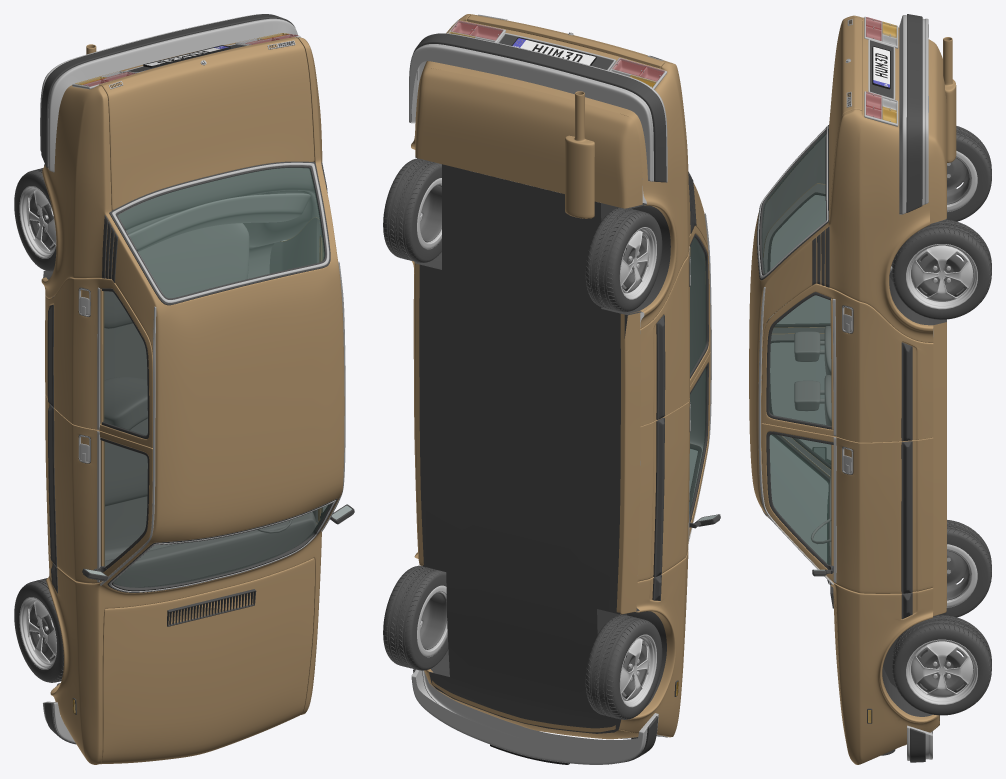
The model's file is fiat_132.glb.
The picture shows the model from 3 angles, left to right: view 1: azimuth 30°, elevation 25°; view 2: azimuth 150°, elevation 25°; view 3: azimuth 270°, elevation 25°; orthographic projection. The views are drawn at different scales.
Visible parts, largest first — view 1: Object_18, Object_2, Object_33, Object_35, Object_24, Object_41, Object_12, Object_17, Object_11, Object_16, Object_48, Object_21 (+8 smaller); view 2: Object_17, Object_18, Object_50, Object_25, Object_24, Object_48, Object_49, Object_2, Object_41, Object_33, Object_19, Object_42 (+12 smaller); view 3: Object_18, Object_2, Object_50, Object_40, Object_17, Object_49, Object_33, Object_24, Object_42, Object_16, Object_35, Object_48 (+17 smaller).
Boxes of the visible parts, x1,y1,x2,y2 form: Object_18: (41, 37, 344, 764); Object_2: (103, 167, 330, 587); Object_33: (52, 168, 321, 587); Object_35: (104, 193, 310, 506); Object_24: (40, 14, 329, 303); Object_41: (19, 186, 56, 669); Object_12: (78, 41, 330, 463); Object_17: (41, 14, 295, 744); Object_11: (100, 437, 337, 592); Object_16: (47, 305, 57, 593); Object_48: (14, 169, 63, 682); Object_21: (74, 262, 345, 712); Object_17: (411, 33, 670, 764); Object_18: (411, 14, 710, 739); Object_50: (383, 158, 662, 312); Object_25: (411, 22, 663, 764); Object_24: (409, 26, 667, 182); Object_48: (585, 208, 662, 719); Object_49: (383, 565, 448, 670); Object_2: (689, 238, 706, 515); Object_41: (619, 227, 656, 707); Object_33: (640, 178, 705, 498); Object_19: (565, 57, 659, 218); Object_42: (420, 184, 646, 698); Object_18: (749, 15, 946, 764); Object_2: (761, 133, 831, 564); Object_50: (892, 126, 991, 319); Object_40: (906, 244, 977, 704); Object_17: (882, 14, 946, 762); Object_49: (892, 615, 991, 715); Object_33: (762, 135, 933, 564); Object_24: (757, 15, 928, 278); Object_42: (917, 251, 971, 692); Object_16: (901, 342, 912, 619); Object_35: (794, 266, 892, 425); Object_48: (946, 127, 991, 617).
Bounding box in the file's own units: 174 × 439 × 143.
